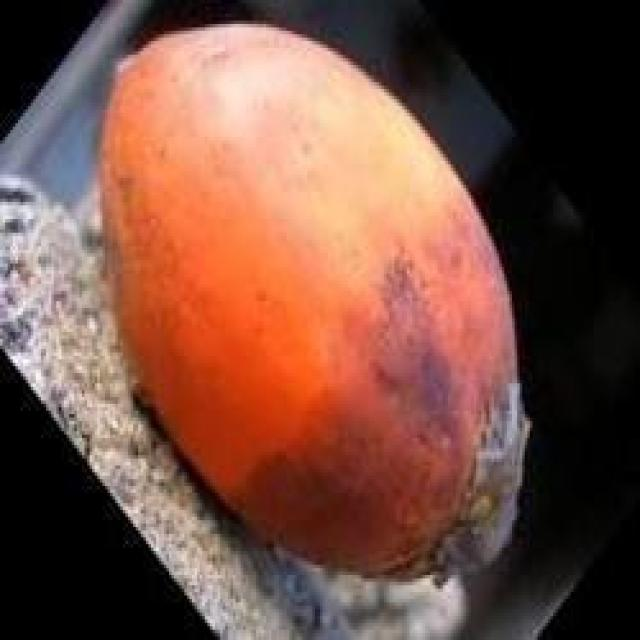good: (97, 24, 532, 589)
